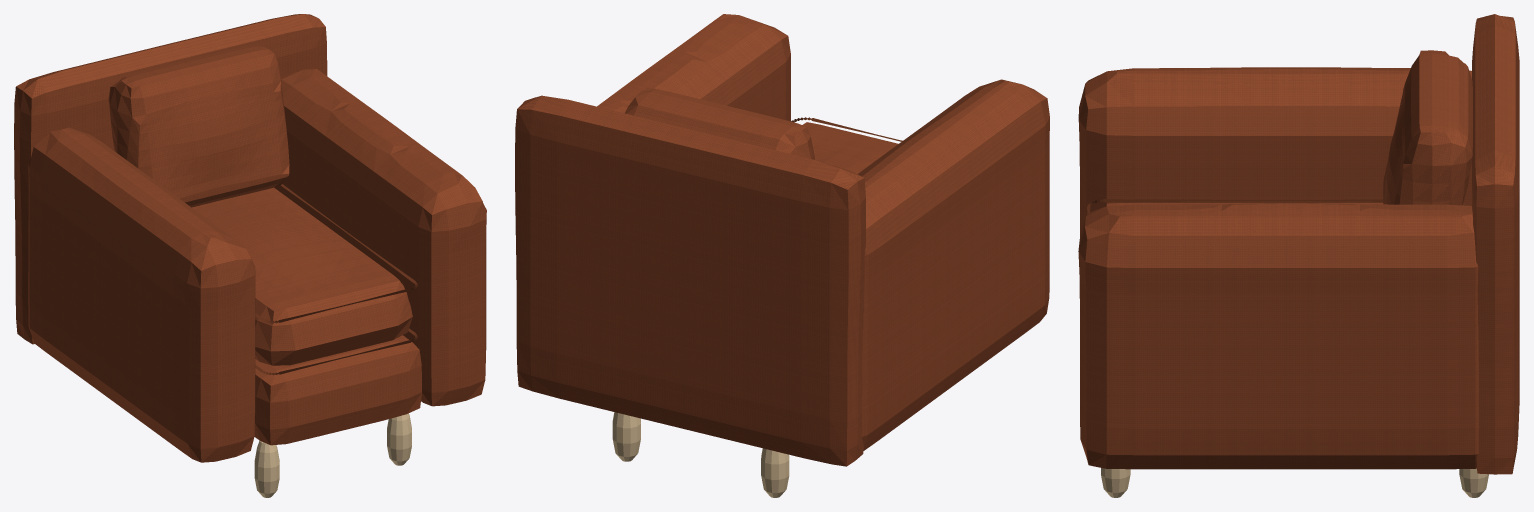
File: SAB-LNG-std.glb
The picture shows the model from 3 angles, left to right: view 1: azimuth 30°, elevation 25°; view 2: azimuth 150°, elevation 25°; view 3: azimuth 270°, elevation 25°; orthographic projection. The views are drawn at different scales.
Parts seen in each view (by area): view 1: arm-pad-l:fabric:eyJwcmVzZXQiOiJjYW52YXMiLCJ3YXJwIjoicnVzdCI, arm-pad-r:fabric:eyJwcmVzZXQiOiJjYW52YXMiLCJ3YXJwIjoicnVzdCI, inside-back:fabric:eyJwcmVzZXQiOiJjYW52YXMiLCJ3YXJwIjoicnVzd, seat:fabric:eyJwcmVzZXQiOiJjYW52YXMiLCJ3YXJwIjoicnVzdCIsIndl, back-pad:fabric:eyJwcmVzZXQiOiJjYW52YXMiLCJ3YXJwIjoicnVzdCIs, deck:fabric:eyJwcmVzZXQiOiJjYW52YXMiLCJ3YXJwIjoicnVzdCIsIndl, seat:piping:pbr, leg-fl:pbr, leg-fr:pbr; view 2: back-pad:fabric:eyJwcmVzZXQiOiJjYW52YXMiLCJ3YXJwIjoicnVzdCIs, arm-pad-l:fabric:eyJwcmVzZXQiOiJjYW52YXMiLCJ3YXJwIjoicnVzdCI, arm-pad-r:fabric:eyJwcmVzZXQiOiJjYW52YXMiLCJ3YXJwIjoicnVzdCI, inside-back:fabric:eyJwcmVzZXQiOiJjYW52YXMiLCJ3YXJwIjoicnVzd, seat:fabric:eyJwcmVzZXQiOiJjYW52YXMiLCJ3YXJwIjoicnVzdCIsIndl, leg-bl:pbr, leg-br:pbr; view 3: arm-pad-r:fabric:eyJwcmVzZXQiOiJjYW52YXMiLCJ3YXJwIjoicnVzdCI, arm-pad-l:fabric:eyJwcmVzZXQiOiJjYW52YXMiLCJ3YXJwIjoicnVzdCI, back-pad:fabric:eyJwcmVzZXQiOiJjYW52YXMiLCJ3YXJwIjoicnVzdCIs, inside-back:fabric:eyJwcmVzZXQiOiJjYW52YXMiLCJ3YXJwIjoicnVzd, seat:piping:pbr, leg-fr:pbr, leg-br:pbr.
Part boxes in pixels (<box>): arm-pad-l:fabric:eyJwcmVzZXQiOiJjYW52YXMiLCJ3YXJwIjoicnVzdCI: <box>28,127,255,462</box>; arm-pad-r:fabric:eyJwcmVzZXQiOiJjYW52YXMiLCJ3YXJwIjoicnVzdCI: <box>274,69,486,406</box>; inside-back:fabric:eyJwcmVzZXQiOiJjYW52YXMiLCJ3YXJwIjoicnVzd: <box>108,45,289,207</box>; seat:fabric:eyJwcmVzZXQiOiJjYW52YXMiLCJ3YXJwIjoicnVzdCIsIndl: <box>192,187,412,365</box>; back-pad:fabric:eyJwcmVzZXQiOiJjYW52YXMiLCJ3YXJwIjoicnVzdCIs: <box>14,14,327,344</box>; deck:fabric:eyJwcmVzZXQiOiJjYW52YXMiLCJ3YXJwIjoicnVzdCIsIndl: <box>254,335,421,445</box>; seat:piping:pbr: <box>255,184,417,375</box>; leg-fl:pbr: <box>254,440,279,497</box>; leg-fr:pbr: <box>387,413,411,465</box>; back-pad:fabric:eyJwcmVzZXQiOiJjYW52YXMiLCJ3YXJwIjoicnVzdCIs: <box>515,95,865,466</box>; arm-pad-l:fabric:eyJwcmVzZXQiOiJjYW52YXMiLCJ3YXJwIjoicnVzdCI: <box>858,79,1049,450</box>; arm-pad-r:fabric:eyJwcmVzZXQiOiJjYW52YXMiLCJ3YXJwIjoicnVzdCI: <box>597,14,790,121</box>; inside-back:fabric:eyJwcmVzZXQiOiJjYW52YXMiLCJ3YXJwIjoicnVzd: <box>625,88,814,159</box>; seat:fabric:eyJwcmVzZXQiOiJjYW52YXMiLCJ3YXJwIjoicnVzdCIsIndl: <box>802,122,898,173</box>; leg-bl:pbr: <box>761,448,789,497</box>; leg-br:pbr: <box>612,412,640,461</box>; arm-pad-r:fabric:eyJwcmVzZXQiOiJjYW52YXMiLCJ3YXJwIjoicnVzdCI: <box>1078,203,1479,469</box>; arm-pad-l:fabric:eyJwcmVzZXQiOiJjYW52YXMiLCJ3YXJwIjoicnVzdCI: <box>1078,67,1471,237</box>; back-pad:fabric:eyJwcmVzZXQiOiJjYW52YXMiLCJ3YXJwIjoicnVzdCIs: <box>1472,14,1519,474</box>; inside-back:fabric:eyJwcmVzZXQiOiJjYW52YXMiLCJ3YXJwIjoicnVzd: <box>1383,50,1472,205</box>; seat:piping:pbr: <box>1087,199,1466,214</box>; leg-fr:pbr: <box>1101,468,1130,497</box>; leg-br:pbr: <box>1459,468,1488,497</box>.
Bounding box in the file's own units: 0.76 × 0.76 × 0.82.
11 materials, 6 textured.
